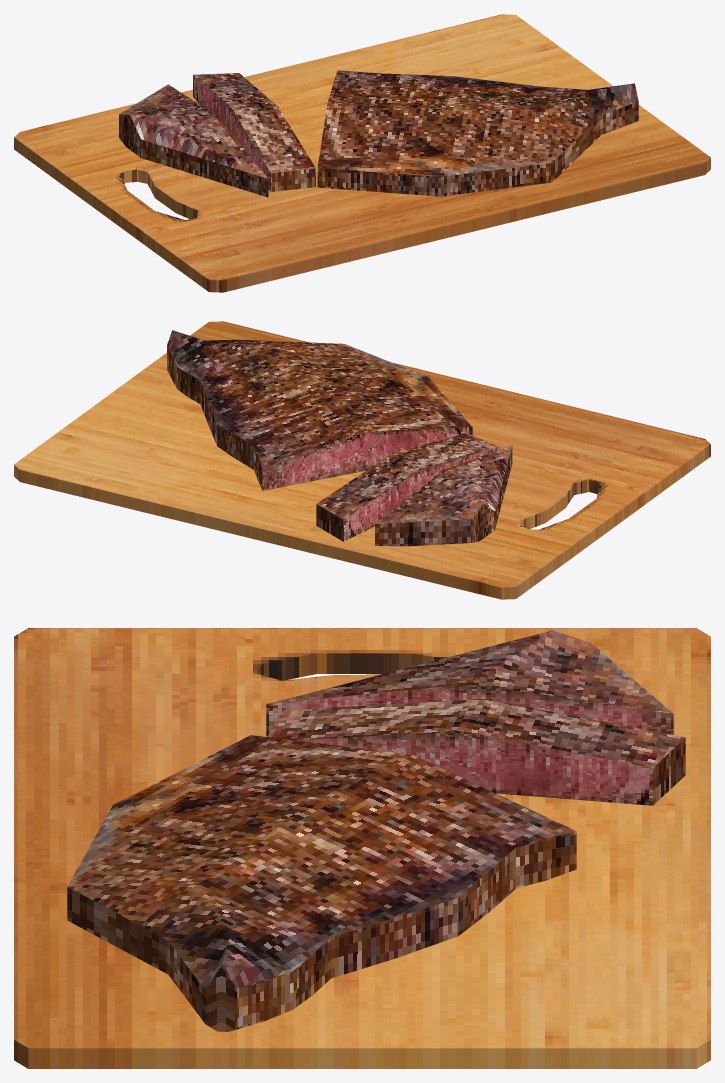
File: steak_on_a_cutting_board_-_ps1_low_poly.glb
The picture shows the model from 3 angles, top to bottom: view 1: azimuth 30°, elevation 25°; view 2: azimuth 150°, elevation 25°; view 3: azimuth 270°, elevation 25°; orthographic projection. The views are drawn at different scales.
Visible parts, largest first — view 1: board, steak; view 2: board, steak; view 3: board, steak.
Boxes of the visible parts, left/top/right/bottom form: board: left=14, top=14, right=710, bottom=292; steak: left=119, top=70, right=638, bottom=197; board: left=14, top=321, right=710, bottom=599; steak: left=167, top=330, right=512, bottom=546; board: left=14, top=628, right=710, bottom=1068; steak: left=67, top=630, right=685, bottom=1031.
Bounding box in the file's own units: 2.32 × 0.2232 × 1.62.
Materials: 2 (2 with a texture image).
